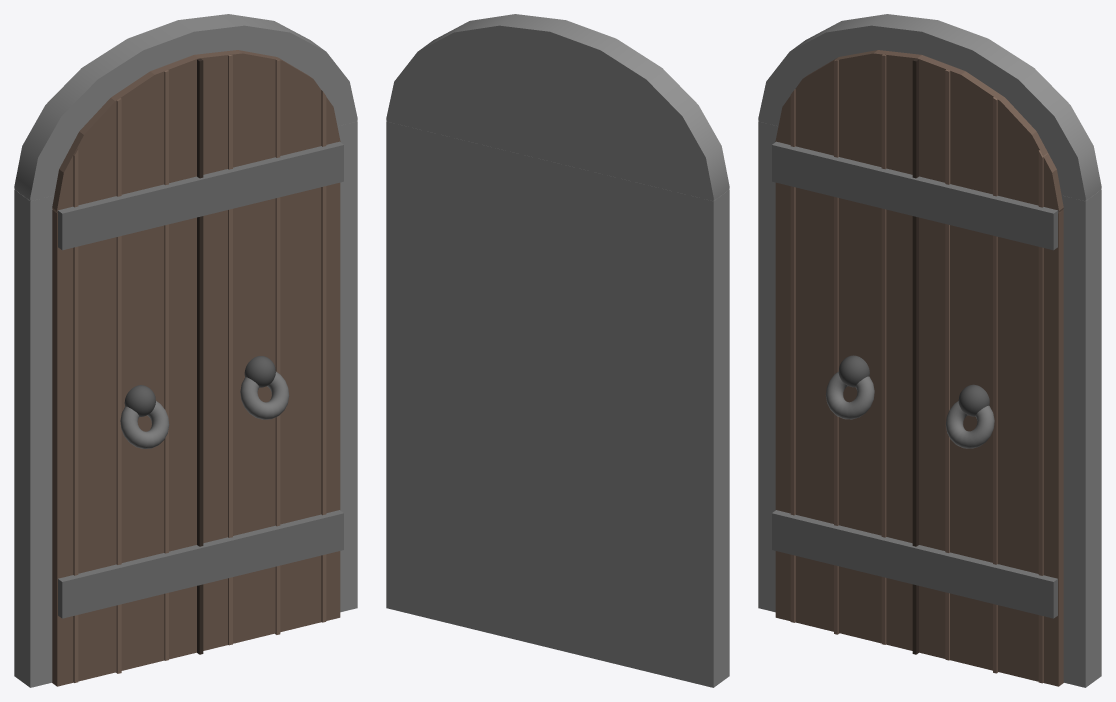
The model's file is door.fbx.
3 views of the same model, side by side, from view 1: azimuth 30°, elevation 25°; view 2: azimuth 150°, elevation 25°; view 3: azimuth 330°, elevation 25° (orthographic).
Visible parts, largest first — view 1: pCube2, pCube3, pCube4, pCube5, pCube7, pCube12, pCube13, pCube9, pCube10, pCube8, pCube11, pTorus2 (+1 smaller); view 2: pCube3; view 3: pCube2, pCube3, pCube4, pCube5, pCube7, pCube11, pCube10, pCube13, pCube8, pCube9, pCube12, pTorus2 (+1 smaller).
Part boxes in pixels (<box>): pCube2: <box>52,50,340,686</box>; pCube3: <box>14,14,357,687</box>; pCube4: <box>57,141,343,250</box>; pCube5: <box>58,510,343,618</box>; pCube7: <box>197,58,203,654</box>; pCube12: <box>116,98,121,673</box>; pCube13: <box>73,148,78,682</box>; pCube9: <box>275,59,280,634</box>; pCube10: <box>321,90,326,622</box>; pCube8: <box>228,55,232,645</box>; pCube11: <box>164,70,168,660</box>; pTorus2: <box>240,356,289,419</box>; pCube3: <box>386,14,729,687</box>; pCube2: <box>775,50,1063,686</box>; pCube3: <box>758,14,1101,687</box>; pCube4: <box>772,141,1058,250</box>; pCube5: <box>772,510,1057,618</box>; pCube7: <box>912,58,918,654</box>; pCube11: <box>881,54,886,644</box>; pCube10: <box>1038,150,1048,683</box>; pCube13: <box>790,89,795,622</box>; pCube8: <box>945,69,950,660</box>; pCube9: <box>993,97,998,673</box>; pCube12: <box>834,59,839,634</box>; pTorus2: <box>946,384,994,448</box>.
Bounding box in the file's own units: 2.91 × 5.24 × 0.5536.
